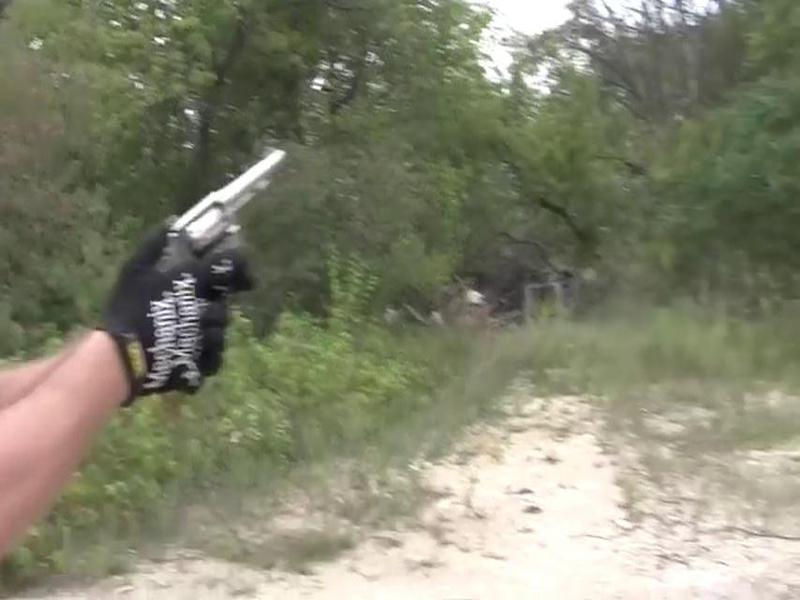Revolver: (139, 142, 298, 267)
